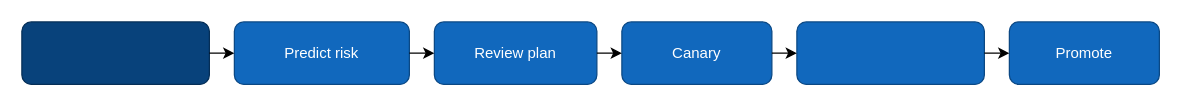
Some shapes in this 1181 by 106 pixel diagram are drawn without their labels. The shapes that lost their labels are listed below. From the top down, each one's centre as x and y in pixels, then its label:
At pixel 115 52: "Submit release".
At pixel 890 52: "Auto-rollback".
